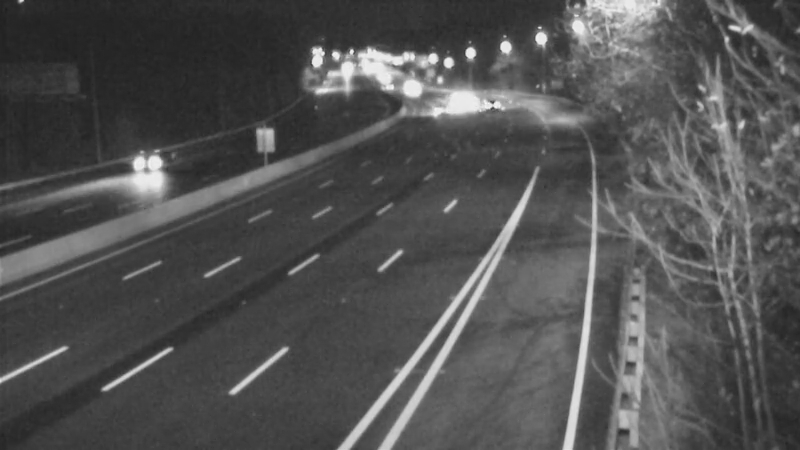vehicle: (112, 121, 192, 201), (367, 60, 417, 110), (393, 66, 443, 116), (432, 76, 482, 126), (457, 74, 507, 124), (411, 82, 461, 132)
